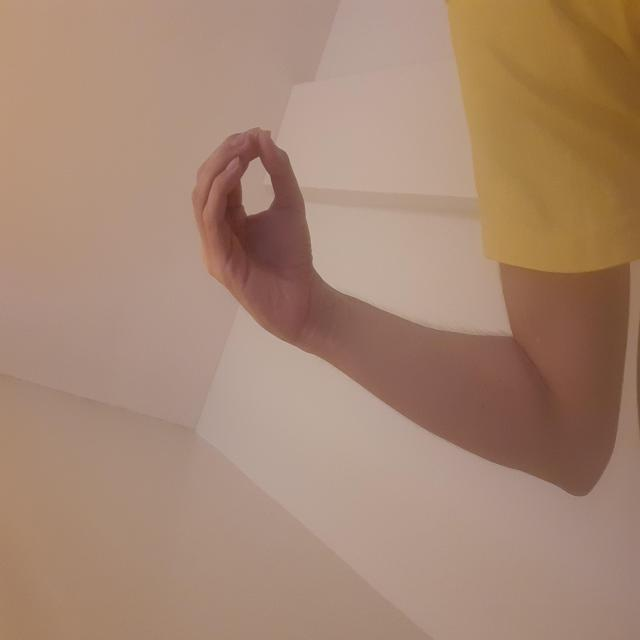O: (153, 101, 378, 376)
